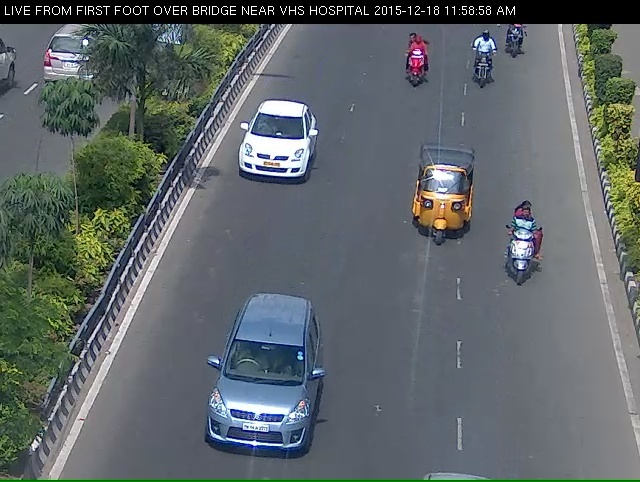Car: (192, 333, 314, 478), (405, 156, 477, 272), (227, 110, 306, 202)
Person: (502, 213, 549, 317), (394, 38, 431, 103), (469, 34, 495, 105), (500, 25, 536, 69)
